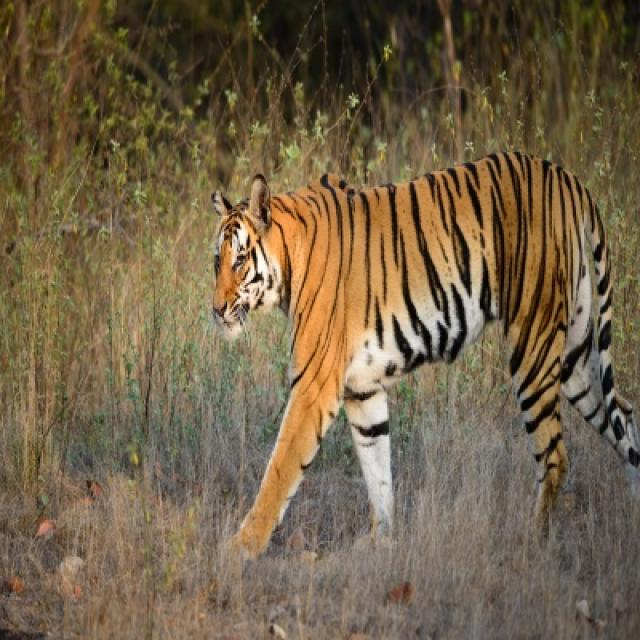Tiger: (211, 152, 638, 555)
